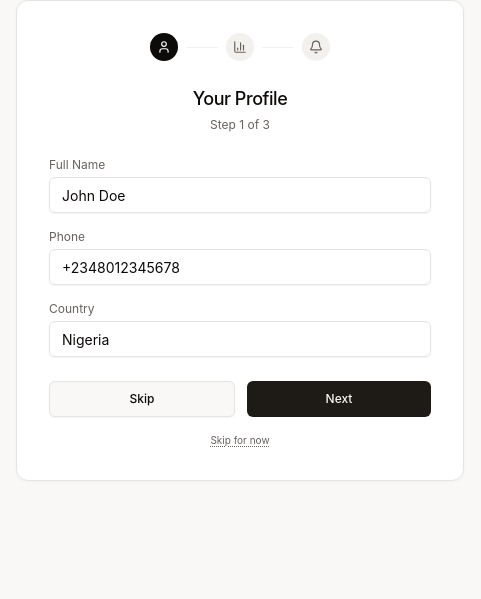
Test case: Onboarding Page › Step 1 - Profile › advances to step 2 on Next click
The image size is (481, 599).
Click the button "Next" at (339, 399), box [247, 381, 431, 417]
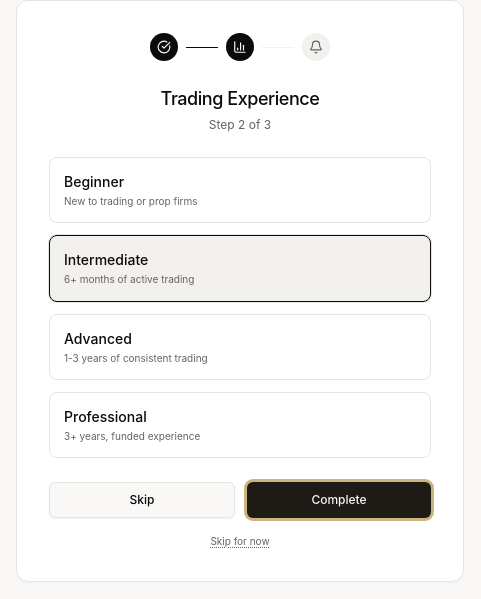
Result: the heading "Trading Experience" is shown at [161, 88, 319, 109]
Result: the text "Step 2 of 3" is shown at [209, 117, 271, 132]
